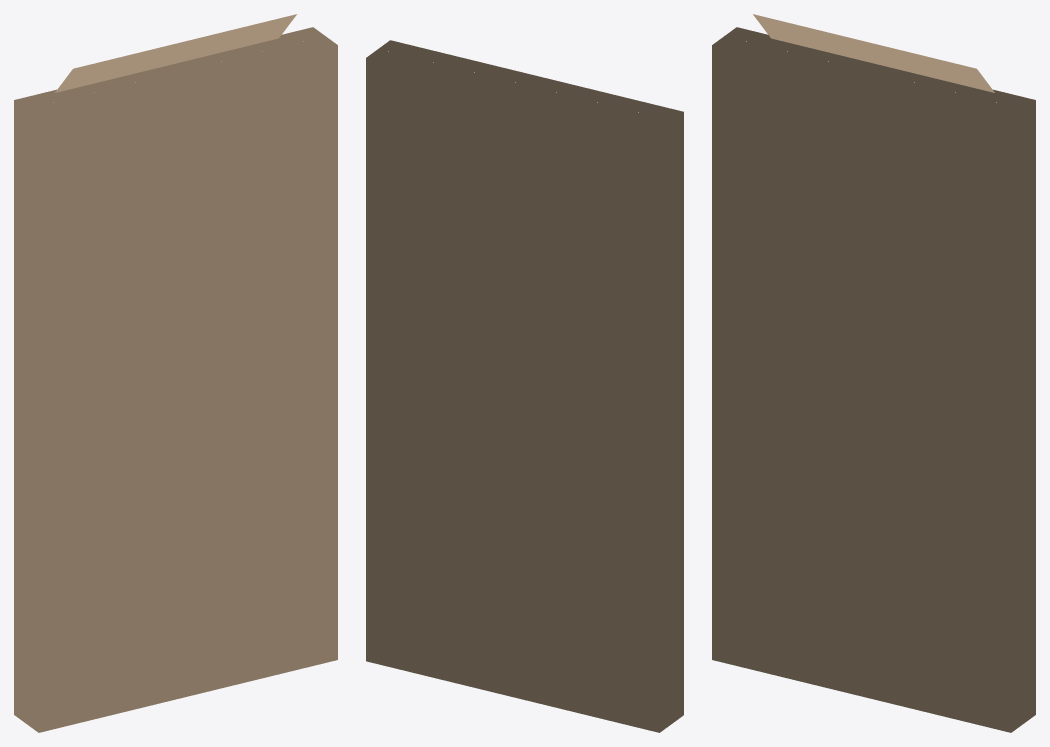
The model's file is trap_t14_booby_trapped_door.glb.
The picture shows the model from 3 angles, left to right: view 1: azimuth 30°, elevation 25°; view 2: azimuth 150°, elevation 25°; view 3: azimuth 330°, elevation 25°; orthographic projection.
Visible parts, largest first — view 1: trap_t14_booby_trapped_door; view 2: trap_t14_booby_trapped_door; view 3: trap_t14_booby_trapped_door.
Part boxes in pixels (x1=…): trap_t14_booby_trapped_door: x1=14, y1=14, x2=337, y2=732; trap_t14_booby_trapped_door: x1=366, y1=40, x2=683, y2=732; trap_t14_booby_trapped_door: x1=712, y1=14, x2=1035, y2=732.
Bounding box in the file's own units: 1.12 × 2.34 × 0.16.
